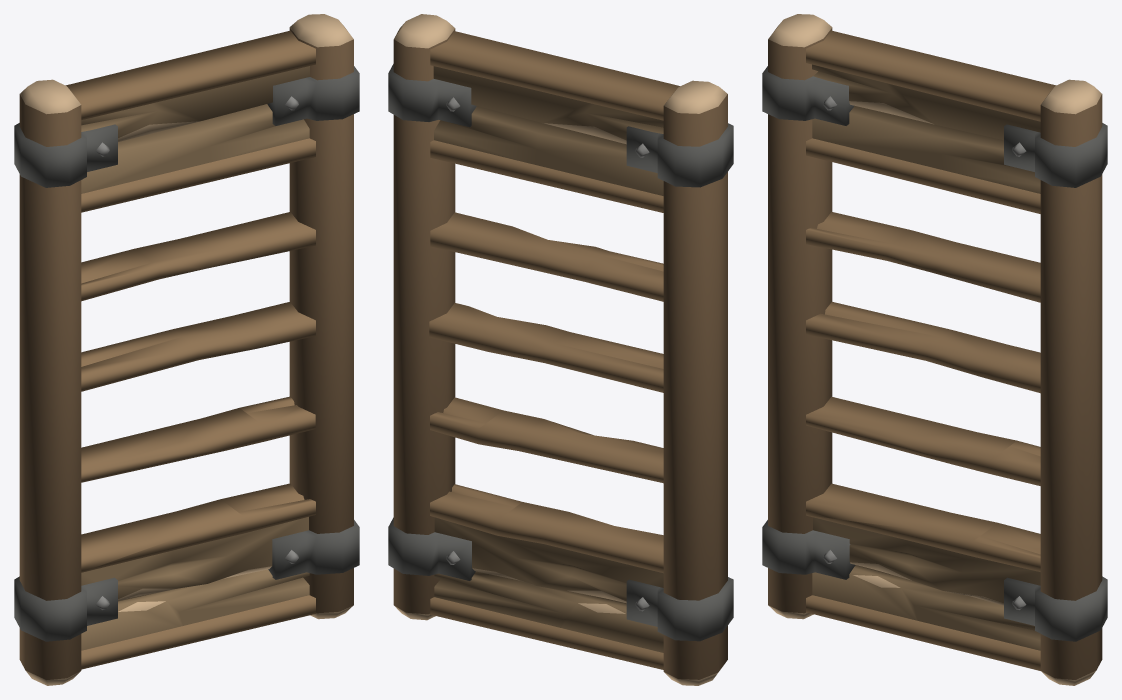
Rendered from rpgpp_ag_shelf_wood_03c.fbx.
The picture shows the model from 3 angles, left to right: view 1: azimuth 30°, elevation 25°; view 2: azimuth 150°, elevation 25°; view 3: azimuth 330°, elevation 25°; orthographic projection.
Parts seen in each view (by area): view 1: rpgpp_ag_shelf_wood_03c; view 2: rpgpp_ag_shelf_wood_03c; view 3: rpgpp_ag_shelf_wood_03c.
Part boxes in pixels (x1=…): rpgpp_ag_shelf_wood_03c: x1=14, y1=14, x2=359, y2=685; rpgpp_ag_shelf_wood_03c: x1=388, y1=14, x2=733, y2=685; rpgpp_ag_shelf_wood_03c: x1=762, y1=14, x2=1107, y2=685.
Size of the model in its own units: 1.61 by 2.74 by 0.3535.
